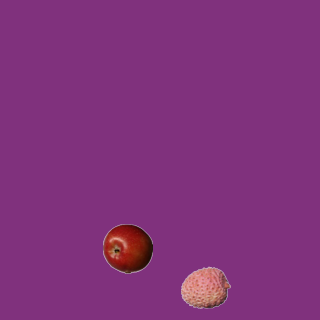Apple Braeburn: (102, 223, 152, 273)
Lychee: (180, 262, 230, 312)
